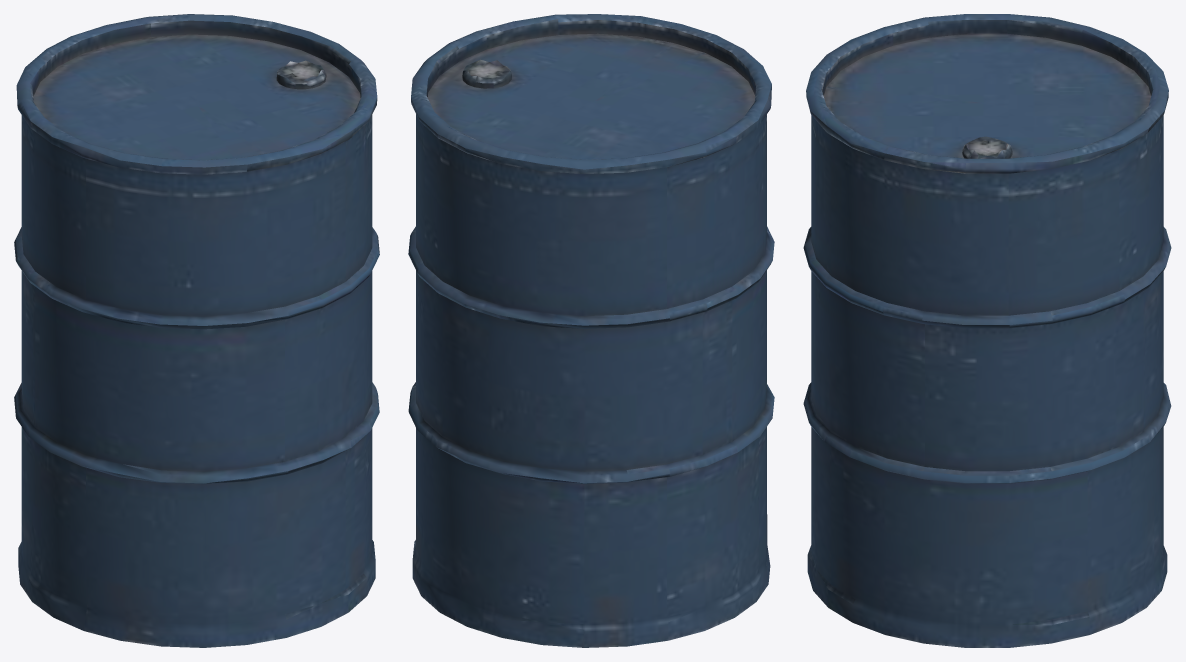
Rendered from drum.glb.
3 views of the same model, side by side, from view 1: azimuth 30°, elevation 25°; view 2: azimuth 150°, elevation 25°; view 3: azimuth 270°, elevation 25° (orthographic).
Visible parts, largest first — view 1: mesh; view 2: mesh; view 3: mesh.
Part boxes in pixels (left/top/right/bottom): mesh: left=14, top=14, right=379, bottom=647; mesh: left=408, top=14, right=774, bottom=647; mesh: left=803, top=14, right=1171, bottom=647.
Size of the model in its own units: 0.6336 by 0.93 by 0.6383.
1 material, 1 textured.
